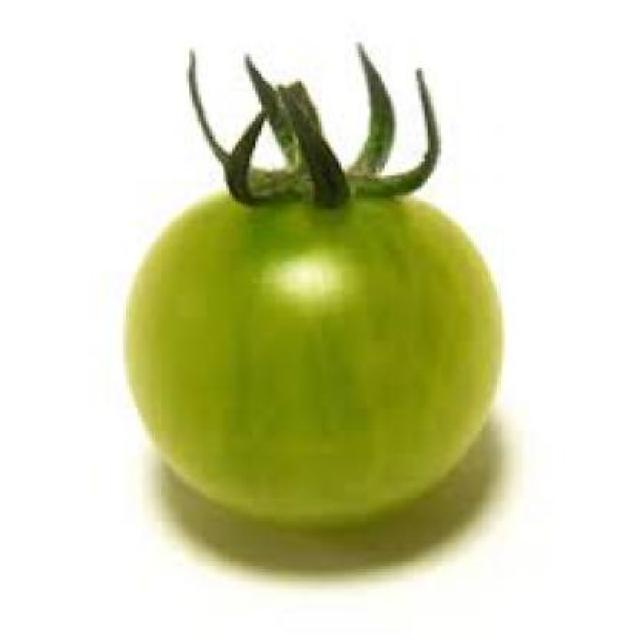yesil: (106, 125, 540, 535)
